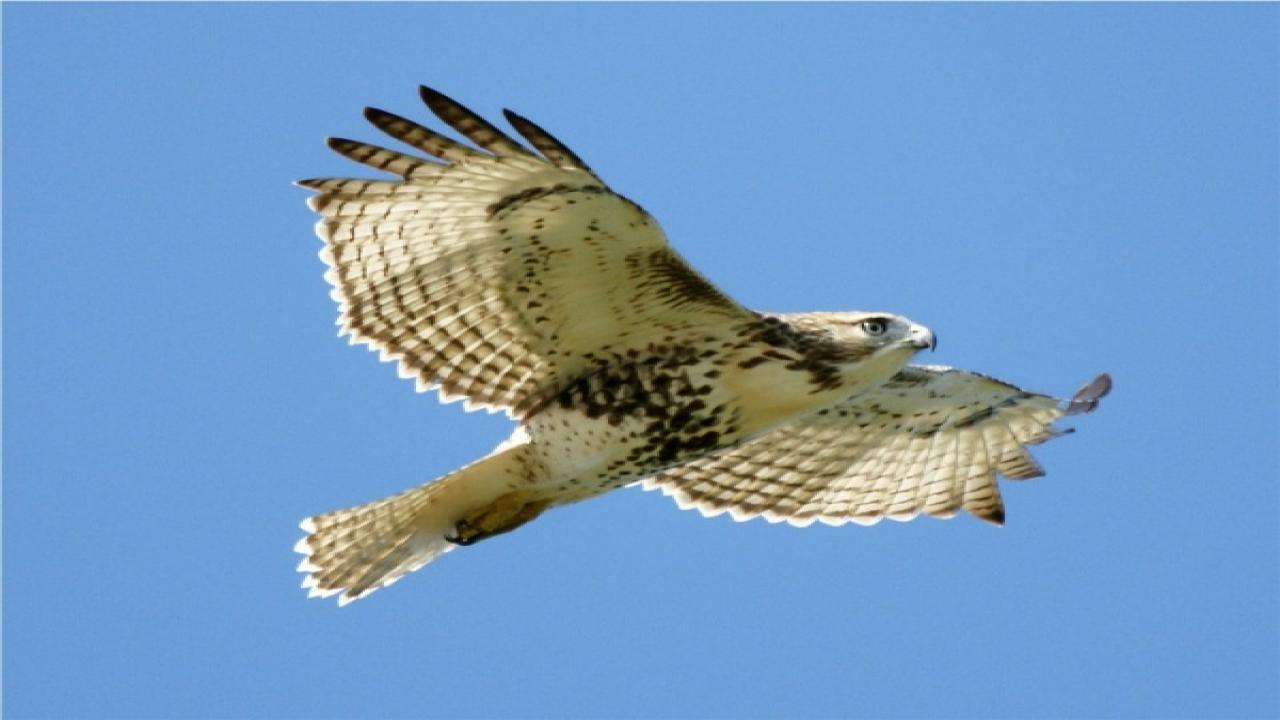Bird: (272, 77, 1124, 615)
